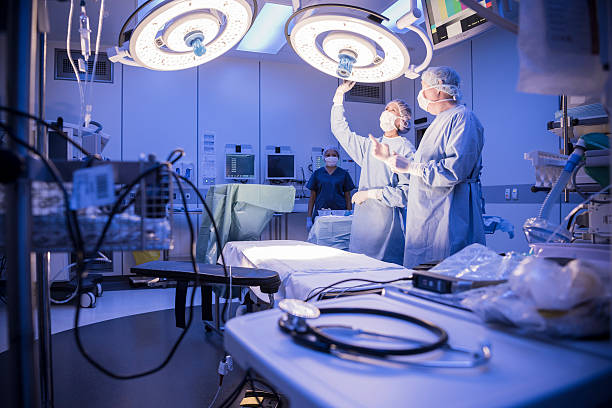bedside_monitor: (420, 1, 502, 50), (265, 155, 297, 181)
breathing_tube: (524, 133, 612, 246)
computer: (225, 153, 255, 181)
operating_bed: (128, 233, 475, 327)
staff: (370, 64, 487, 270), (328, 77, 415, 256), (303, 145, 353, 239)
surgical_light: (281, 1, 428, 88), (107, 1, 257, 74)
table: (224, 252, 612, 408)
